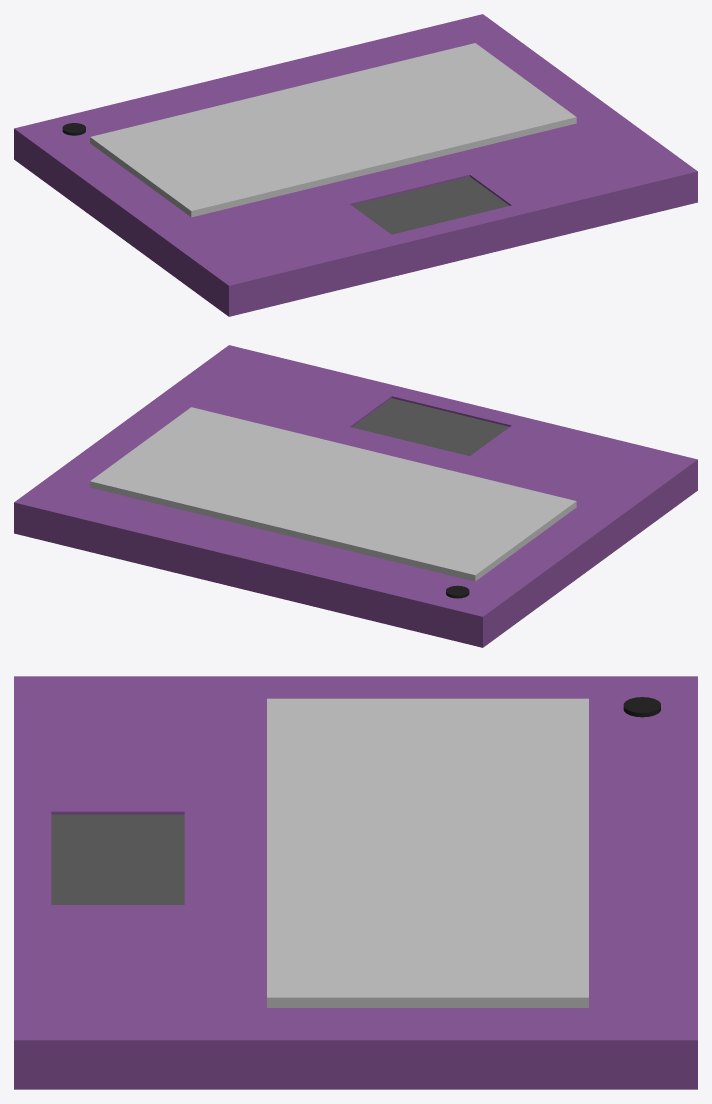
Rendered from Itr_Obj_Laptop_Board_06.FBX.
3 views of the same model, one above another, from view 1: azimuth 30°, elevation 25°; view 2: azimuth 150°, elevation 25°; view 3: azimuth 270°, elevation 25° (orthographic). The views are drawn at different scales.
Parts seen in each view (by area): view 1: Itr_Obj_Laptop_Board_06; view 2: Itr_Obj_Laptop_Board_06; view 3: Itr_Obj_Laptop_Board_06.
Boxes of the visible parts, x1,y1,x2,y2 form: Itr_Obj_Laptop_Board_06: [14, 14, 697, 316]; Itr_Obj_Laptop_Board_06: [14, 345, 697, 647]; Itr_Obj_Laptop_Board_06: [14, 676, 697, 1089].
Bounding box in the file's own units: 29.1 × 2.22 × 23.12.
